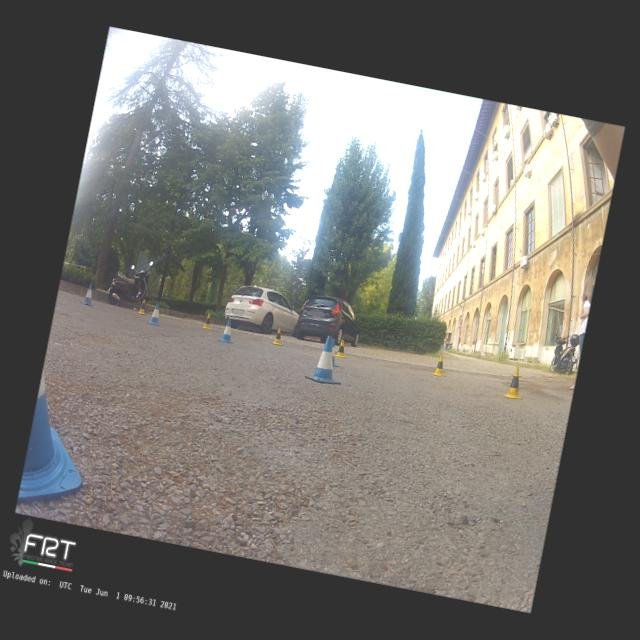blue_cone: (18, 363, 103, 512), (306, 333, 350, 388), (326, 337, 344, 368), (218, 317, 238, 344), (80, 282, 98, 306), (147, 301, 164, 326)
yellow_cone: (502, 366, 529, 402), (430, 352, 450, 378), (334, 336, 350, 359), (272, 328, 286, 347), (136, 298, 148, 316), (202, 312, 214, 330)
